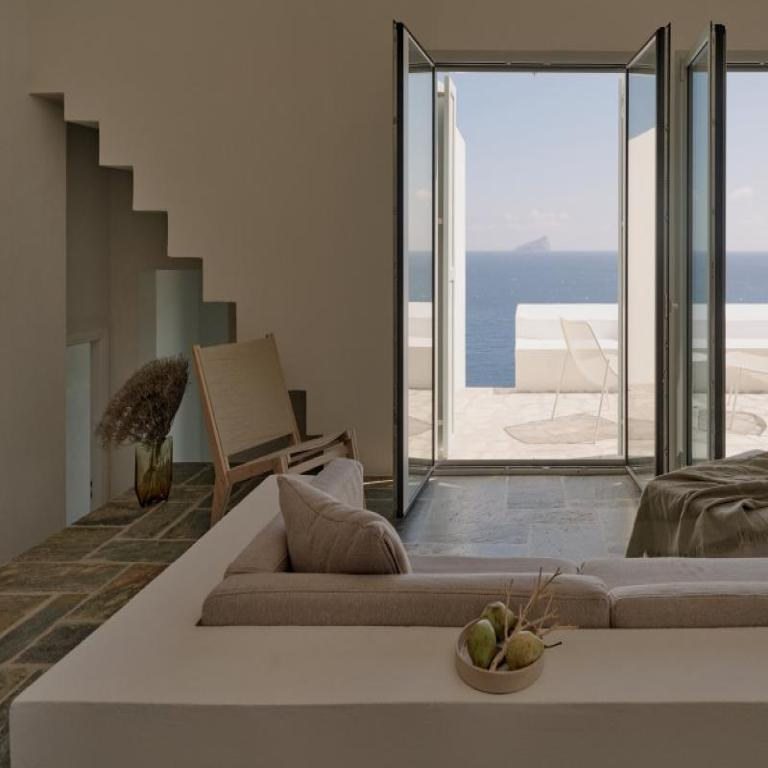white-walls: (84, 35, 374, 402)
